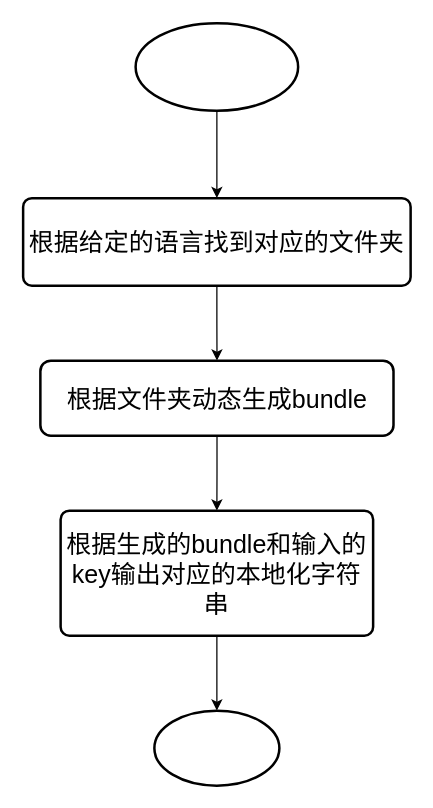
Some shapes in this 433 by 808 pixel diagram are drawn without their labels. The shapes that lost their labels are listed below. From the top down, each one's centre as x and y in pixels, then its label:
[216,66]: 开始
[216,747]: 结束
